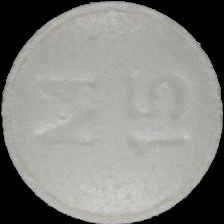21695-688: (0, 0, 224, 224)
